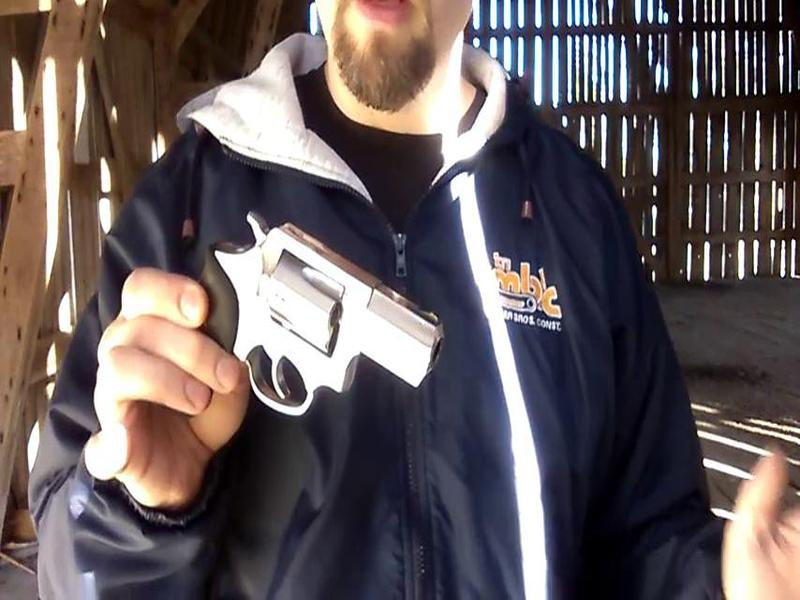Revolver: (192, 192, 456, 437)
